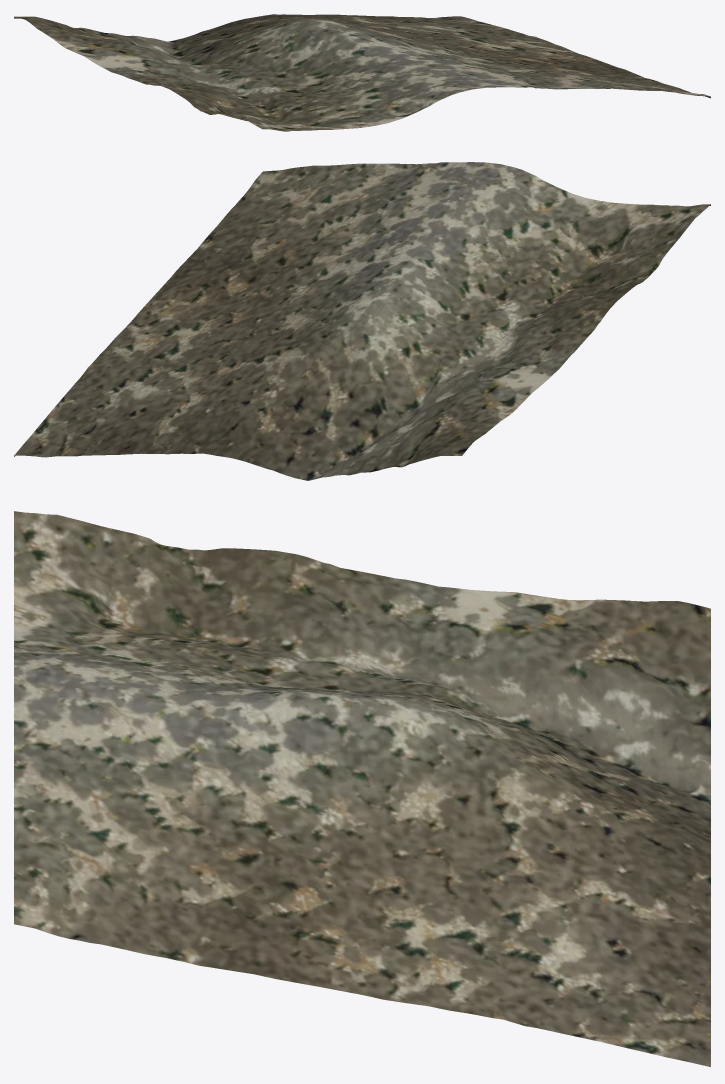
3 renders of one model, top to bottom at view 1: azimuth 30°, elevation 25°; view 2: azimuth 150°, elevation 25°; view 3: azimuth 270°, elevation 25°, orthographic. The views are drawn at different scales.
Bounding box in the file's own units: 250 × 96.26 × 241.
1 material, 1 textured.
